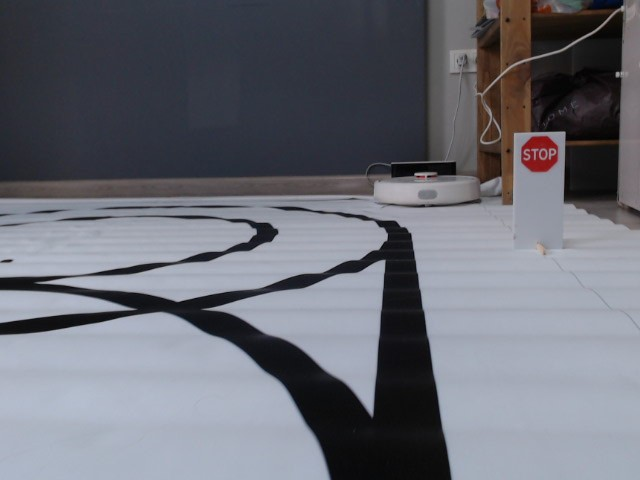Stop: (521, 135, 558, 173)
